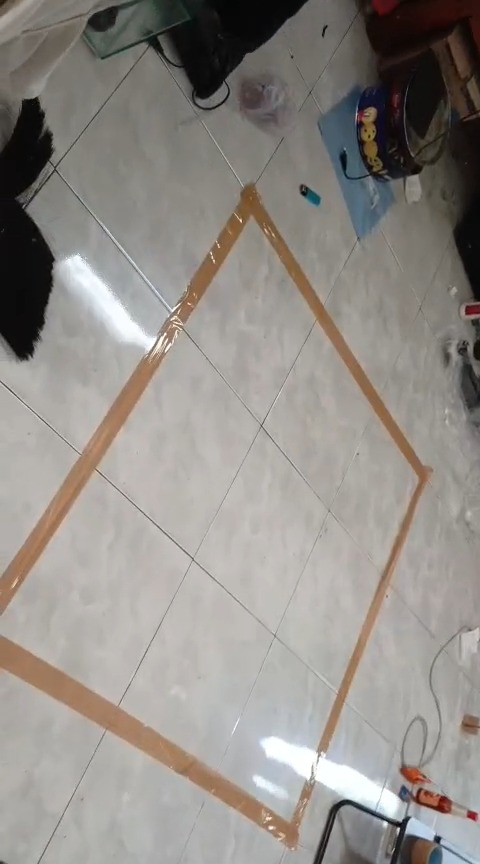floor marking: (0, 185, 430, 754), (2, 636, 312, 847)
